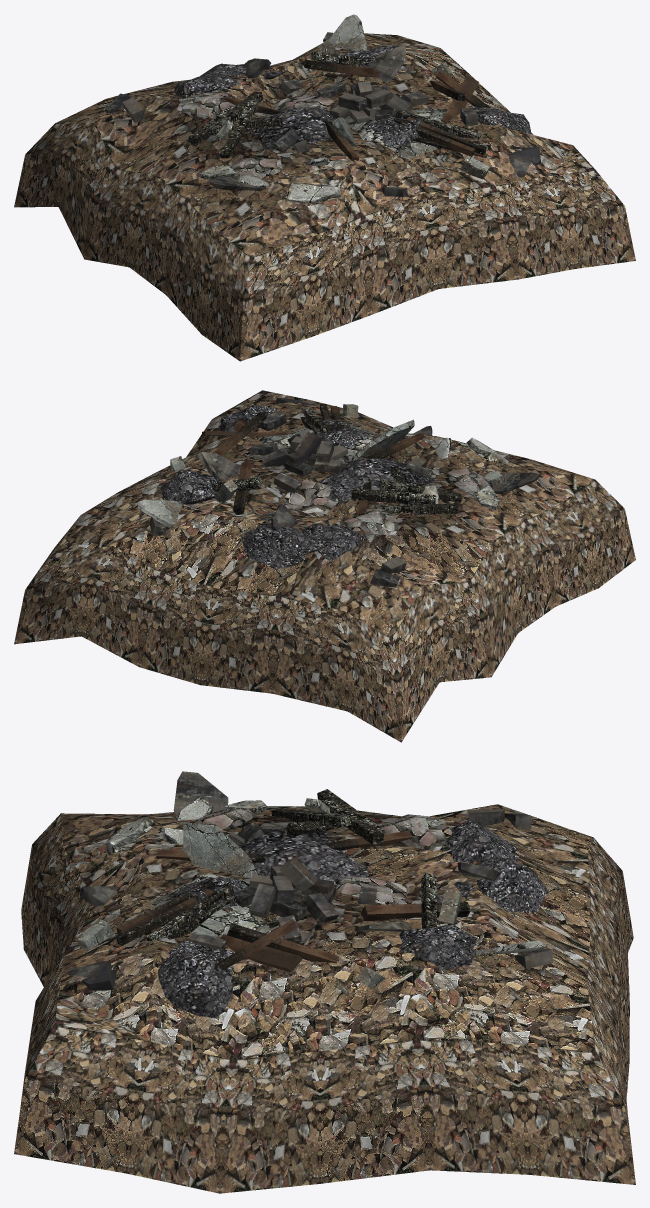
Rendered from rubble_stone_5x5.glb.
3 views of the same model, one above another, from view 1: azimuth 30°, elevation 25°; view 2: azimuth 150°, elevation 25°; view 3: azimuth 270°, elevation 25° (orthographic). The views are drawn at different scales.
Visible parts, largest first — view 1: rubble_stone_5x5_part0; view 2: rubble_stone_5x5_part0; view 3: rubble_stone_5x5_part0.
Part boxes in pixels (<box>): rubble_stone_5x5_part0: <box>14,14,635,361</box>; rubble_stone_5x5_part0: <box>14,390,635,742</box>; rubble_stone_5x5_part0: <box>14,771,635,1193</box>.
Bounding box in the file's own units: 6.67 × 2.56 × 6.58.
1 material, 1 textured.
